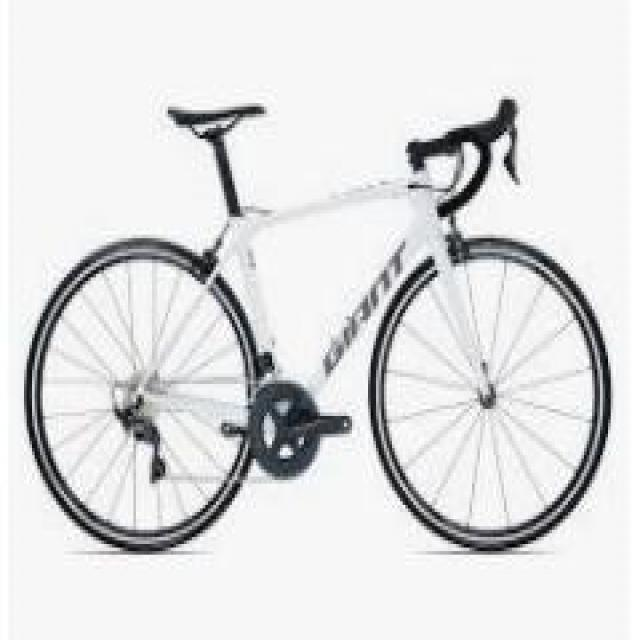bicycle: (28, 86, 615, 556)
